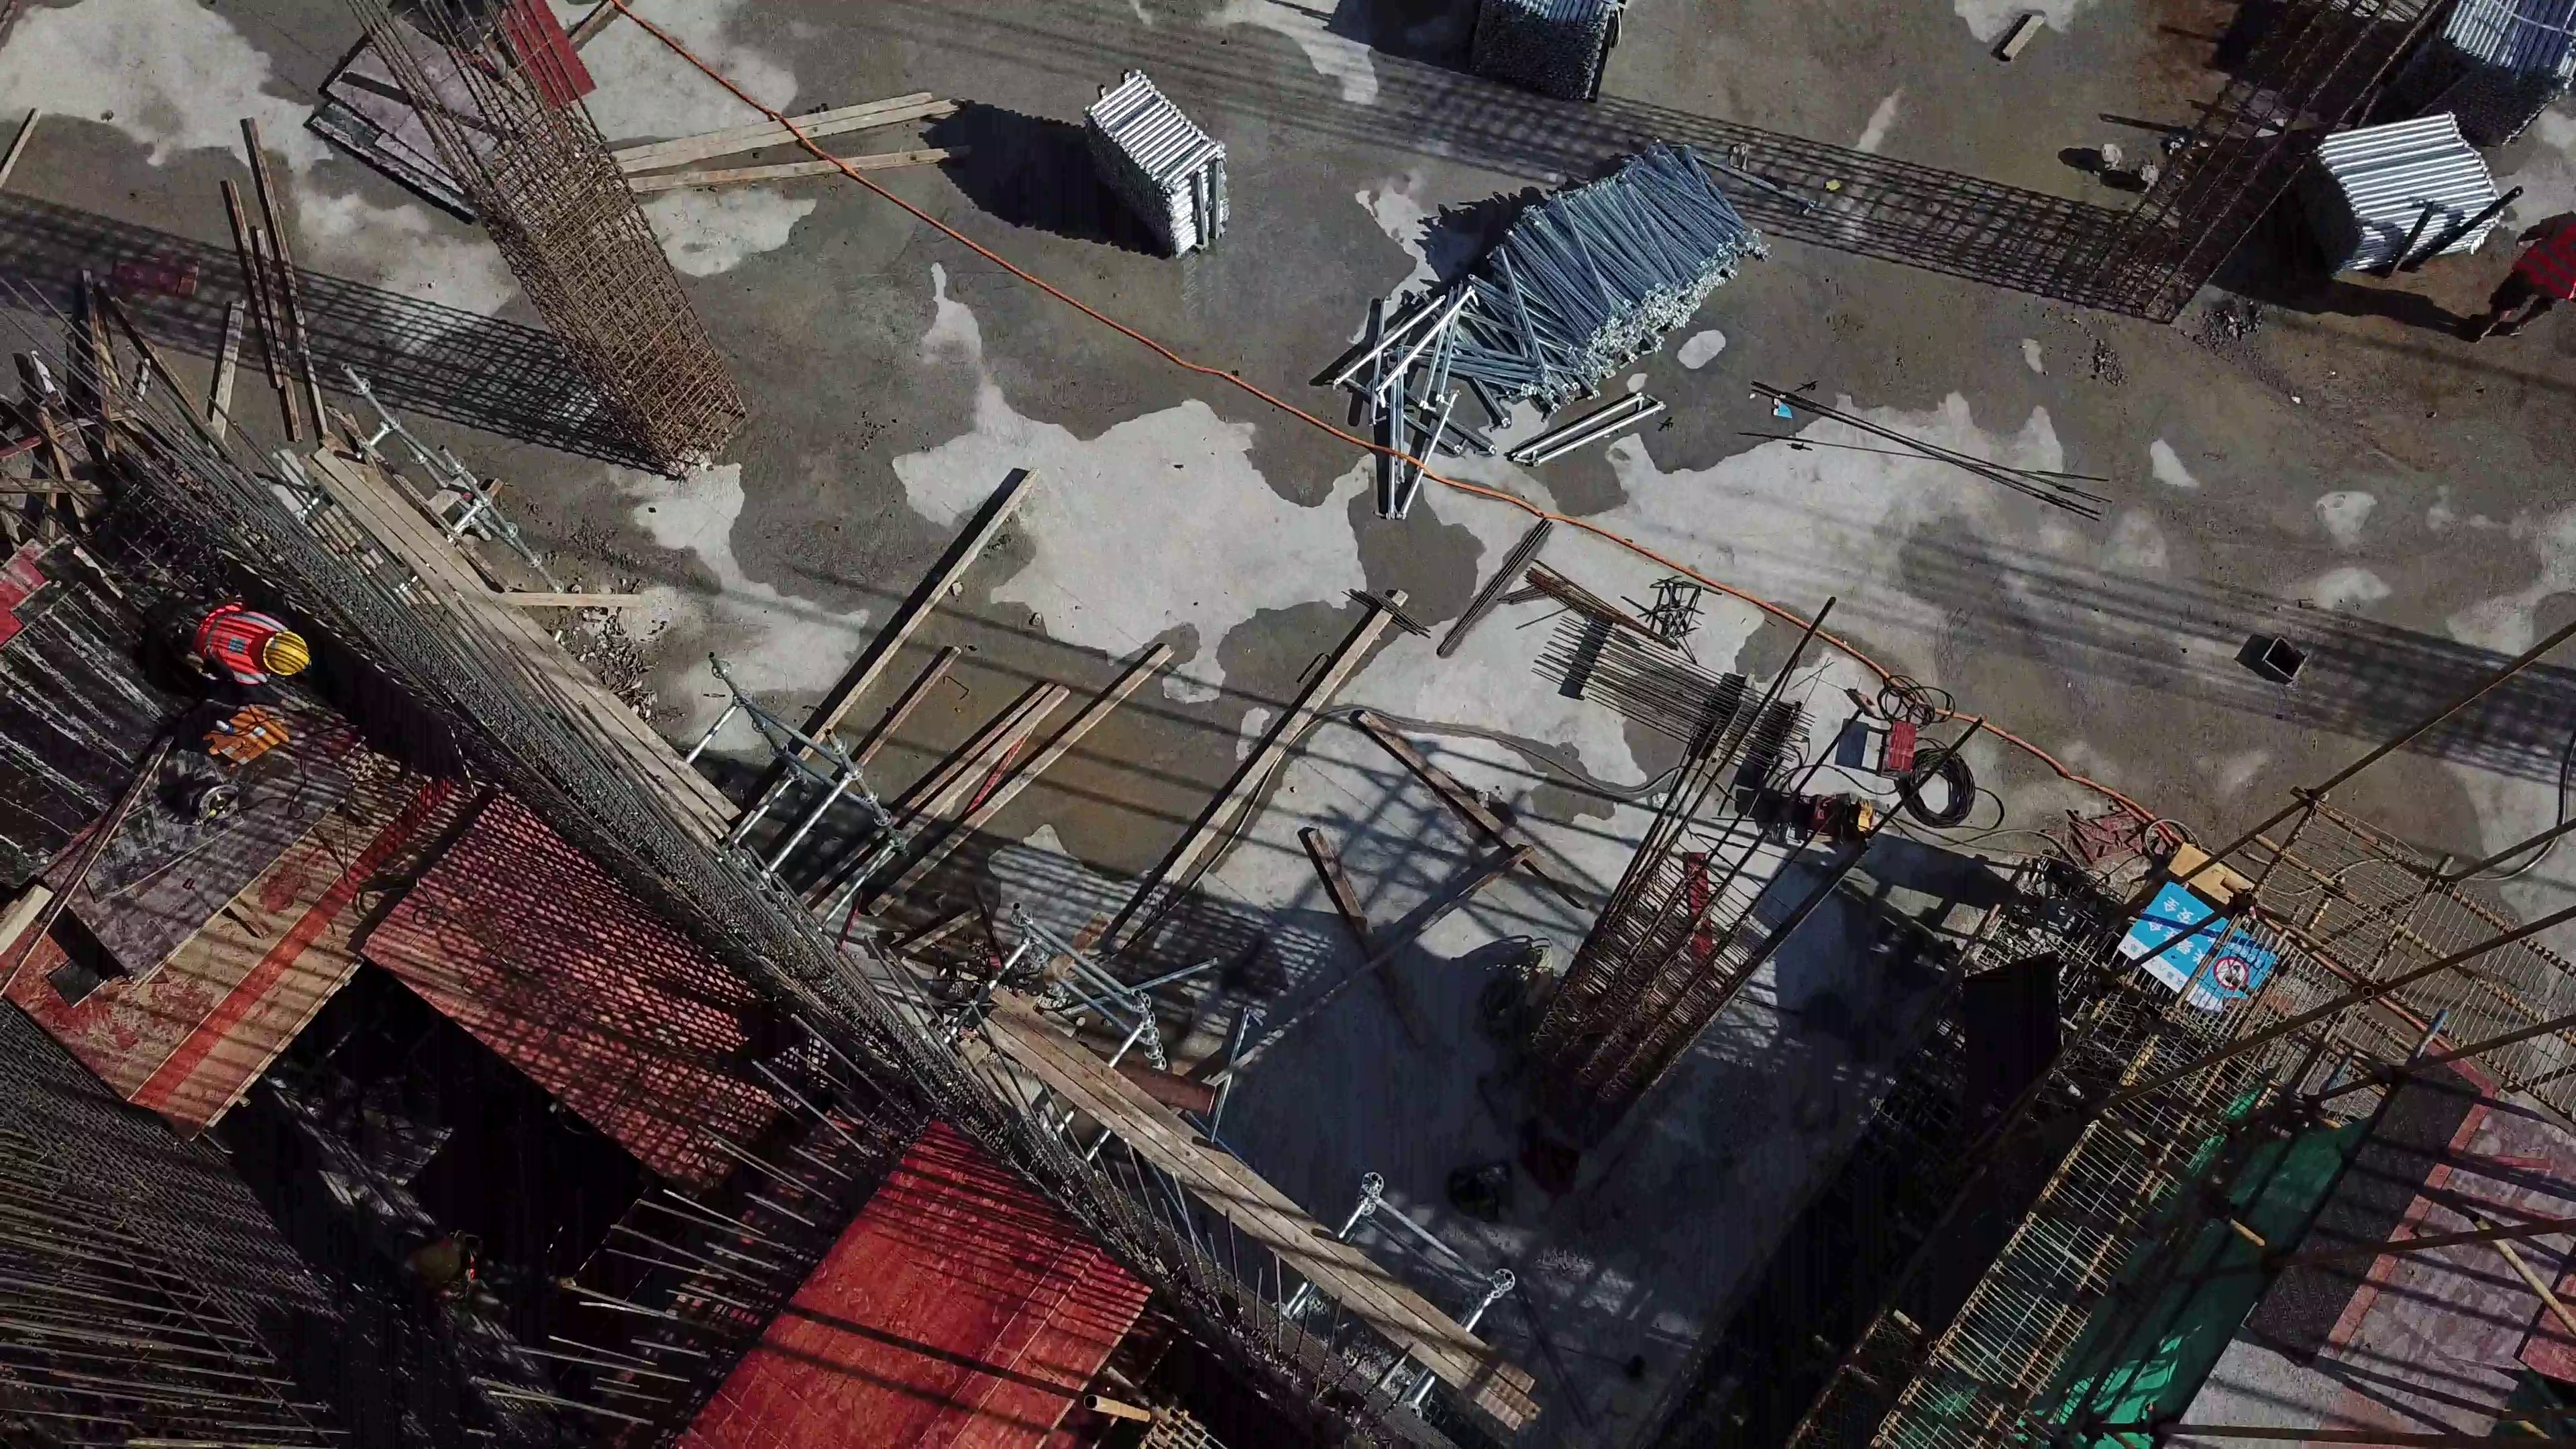board: (297, 46, 579, 219)
ebox: (202, 706, 294, 767)
helmet: (264, 633, 320, 691)
person: (182, 602, 321, 704), (2476, 209, 2576, 341)
scaffold: (1333, 131, 1772, 531), (2251, 112, 2487, 292), (1071, 72, 1238, 263), (2419, 1, 2576, 141), (1460, 1, 1631, 110)
slogan: (2127, 880, 2284, 1022)
vest: (194, 600, 270, 694)
